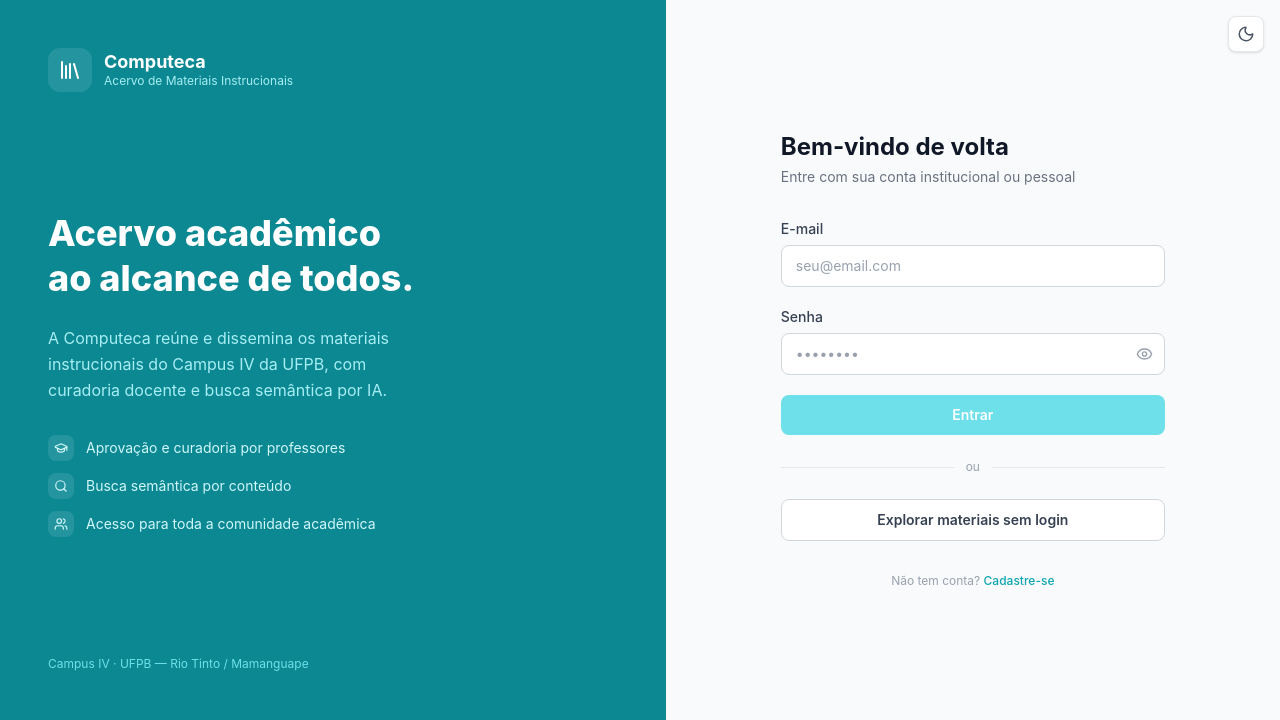
Scenario: LoginPage › exibe alerta de erro quando o login falha
The width and height of the screenshot is (1280, 720).
Type "x@y.com" into the field labelled "E-mail".
click(973, 266); type("x@y.com")  # box [781, 245, 1165, 287]
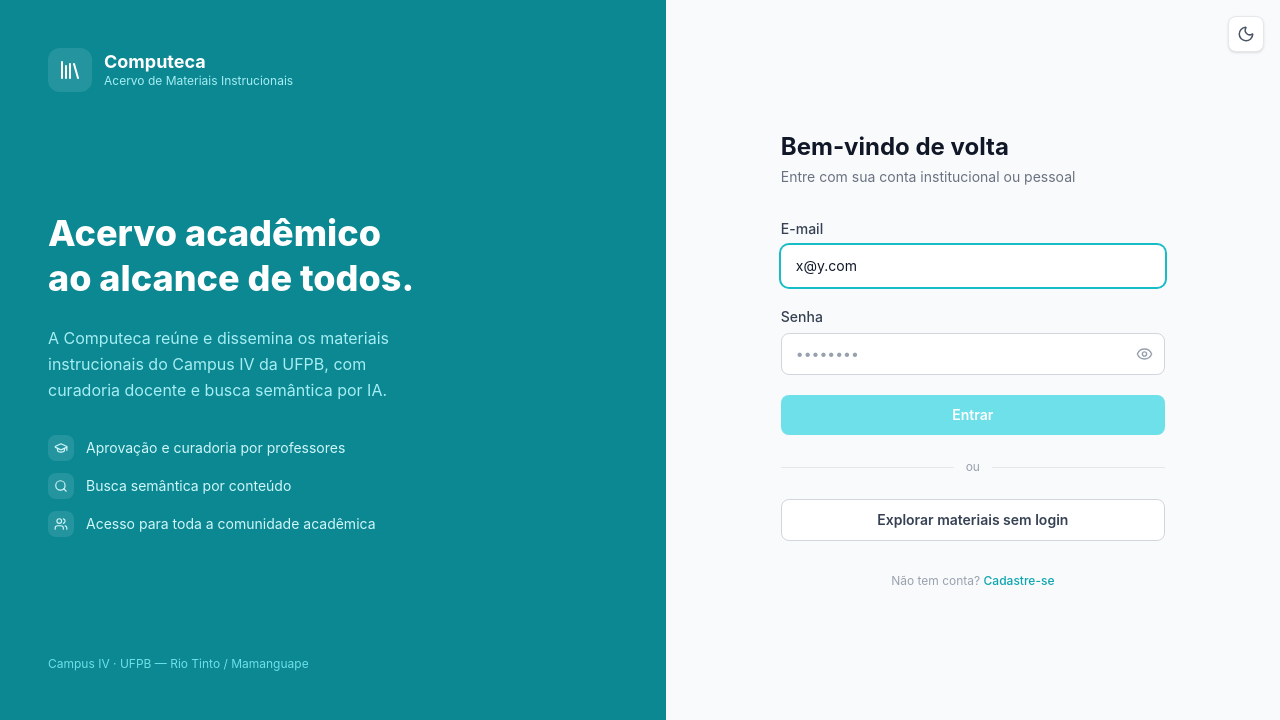
Type "senha12345" into the password field labelled "Senha".
click(973, 354); type("senha12345")  # box [781, 333, 1165, 375]
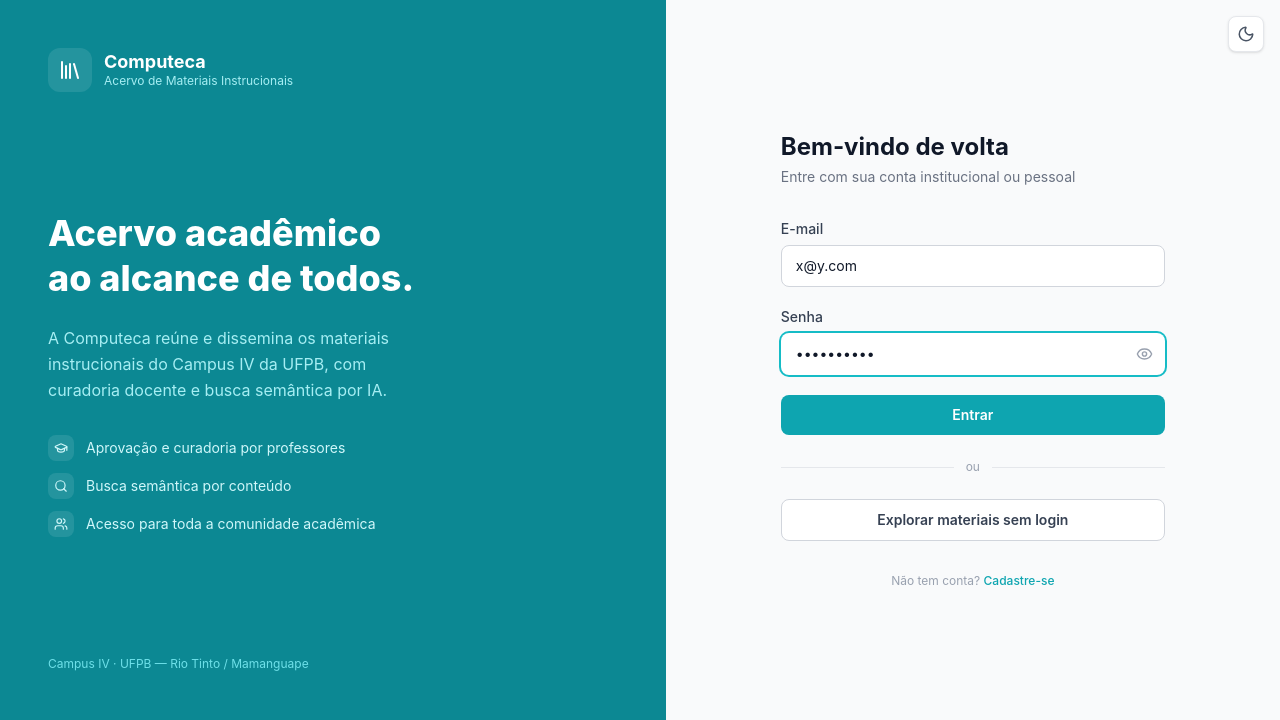
Click the button "Entrar".
click(973, 415)  # box [781, 395, 1165, 435]
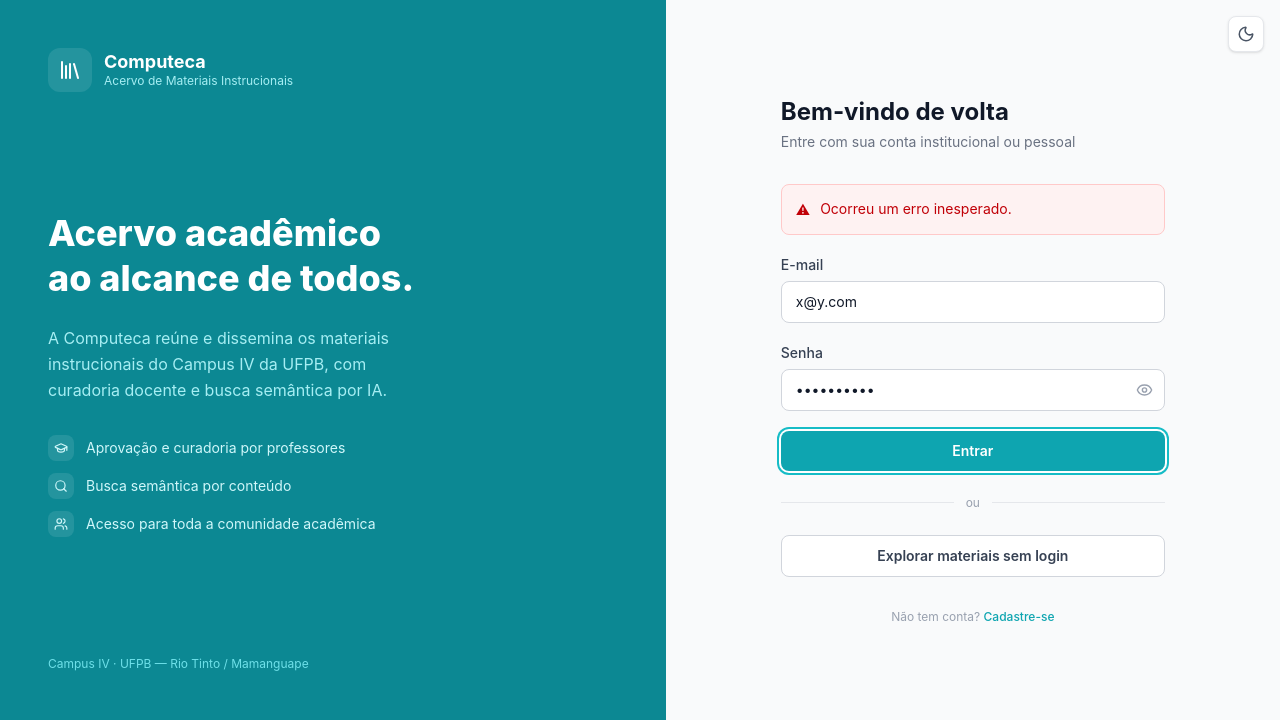
Now the message "⚠ Ocorreu um erro inesperado." is shown, box [781, 184, 1165, 234]
